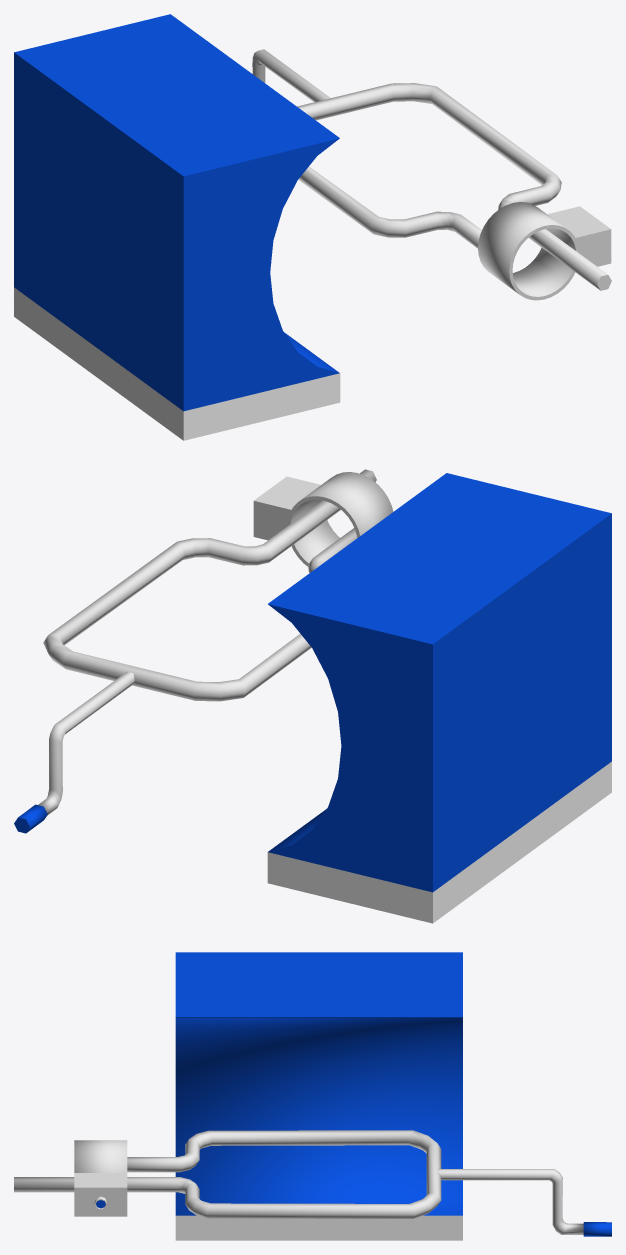
Rendered from Ac Genrator.fbx.
3 renders of one model, top to bottom at view 1: azimuth 30°, elevation 25°; view 2: azimuth 150°, elevation 25°; view 3: azimuth 270°, elevation 25°, orthographic. The views are drawn at different scales.
Parts seen in each view (by area): view 1: Magnet, Coil, Slip Ring, Carbon Brush X, Shaft; view 2: Magnet, Coil, Slip Ring, Shaft, Carbon Brush X; view 3: Magnet, Coil, Shaft, Carbon Brush X, Slip Ring.
Boxes of the visible parts, x1,y1,x2,y2 form: Magnet: [14, 14, 340, 440]; Coil: [297, 83, 611, 290]; Slip Ring: [478, 202, 579, 300]; Carbon Brush X: [547, 206, 611, 266]; Shaft: [252, 49, 330, 102]; Magnet: [267, 473, 611, 923]; Coil: [43, 469, 376, 701]; Slip Ring: [287, 472, 393, 566]; Shaft: [14, 671, 134, 833]; Carbon Brush X: [253, 476, 320, 540]; Magnet: [175, 952, 462, 1240]; Coil: [14, 1130, 441, 1218]; Shaft: [438, 1169, 611, 1236]; Carbon Brush X: [74, 1173, 127, 1216]; Slip Ring: [74, 1140, 127, 1172].
Size of the model in its own units: 270 by 172 by 416.
